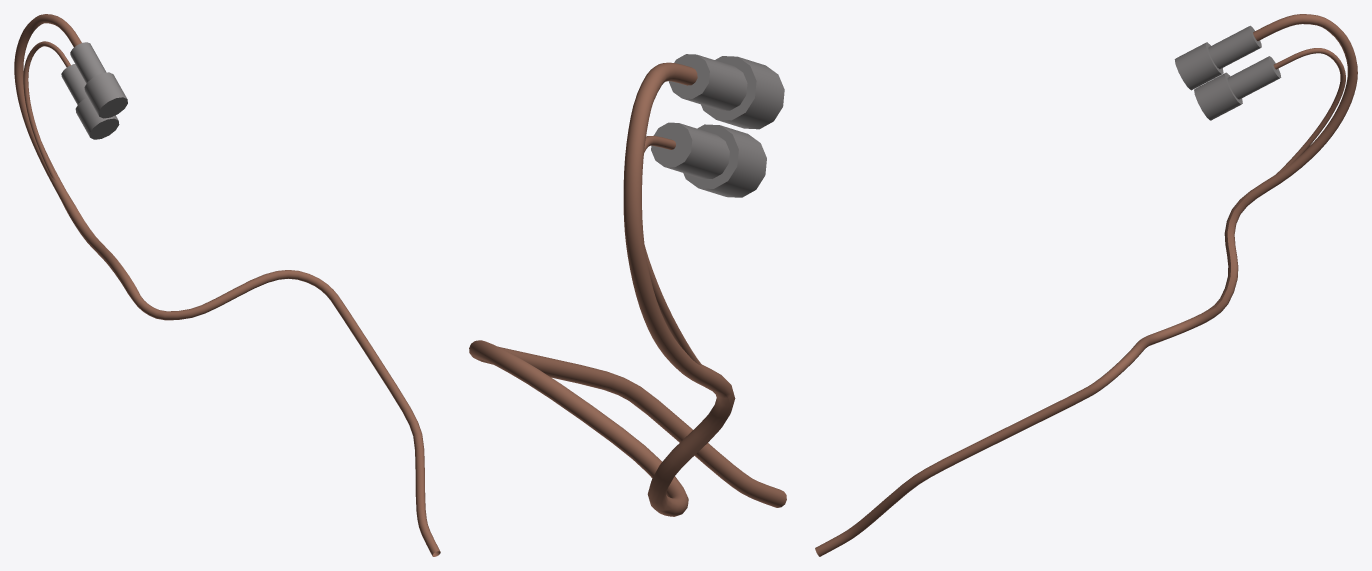
Rendered from powerCable.fbx.
The picture shows the model from 3 angles, left to right: view 1: azimuth 30°, elevation 25°; view 2: azimuth 150°, elevation 25°; view 3: azimuth 270°, elevation 25°; orthographic projection. The views are drawn at different scales.
Parts seen in each view (by area): view 1: cable1, plug1, plug2, cable2; view 2: cable1, plug2, plug1, cable2; view 3: cable1, plug2, plug1, cable2.
Boxes of the visible parts, left/top/right/bottom form: cable1: left=14, top=14, right=440, bottom=556; plug1: left=70, top=42, right=127, bottom=118; plug2: left=61, top=64, right=119, bottom=139; cable2: left=23, top=41, right=70, bottom=180; cable1: left=469, top=62, right=786, bottom=516; plug2: left=651, top=122, right=766, bottom=197; plug1: left=668, top=54, right=784, bottom=129; cable2: left=644, top=135, right=702, bottom=365; cable1: left=815, top=14, right=1357, bottom=556; plug2: left=1194, top=56, right=1281, bottom=120; plug1: left=1174, top=25, right=1261, bottom=90; cable2: left=1273, top=48, right=1345, bottom=174.
Size of the model in its own units: 26.02 by 49.56 by 53.35.
